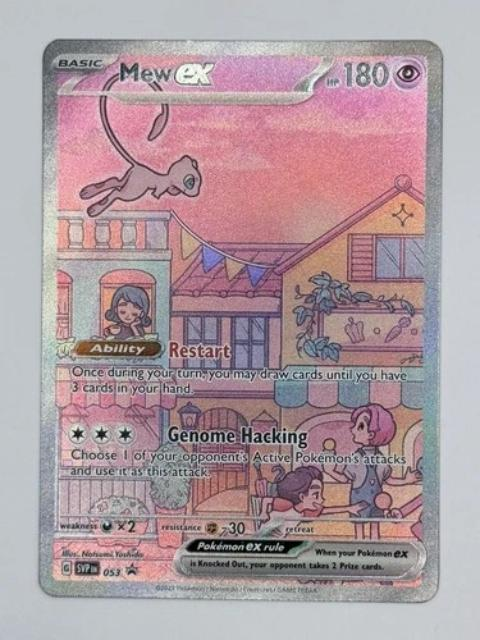Card: (31, 33, 448, 608)
Name: (113, 59, 220, 90)
